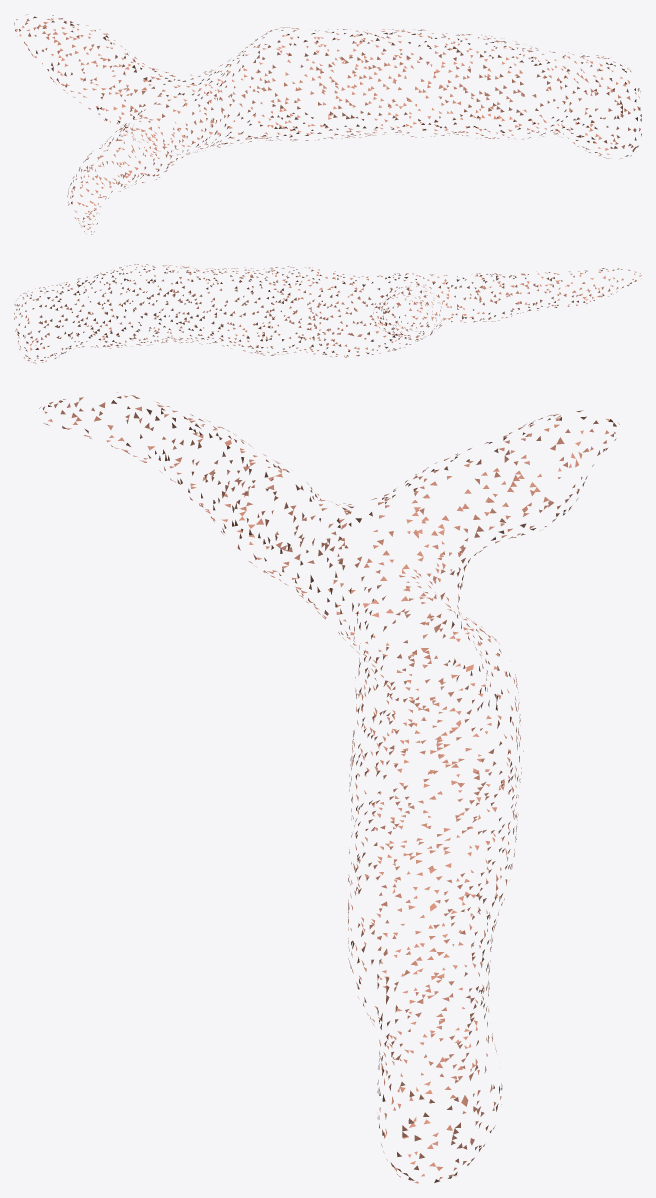
The model's file is morph_003.glb.
3 views of the same model, one above another, from view 1: azimuth 30°, elevation 25°; view 2: azimuth 150°, elevation 25°; view 3: azimuth 270°, elevation 25° (orthographic). The views are drawn at different scales.
Bounding box in the file's own units: 126 × 41.79 × 60.39.
